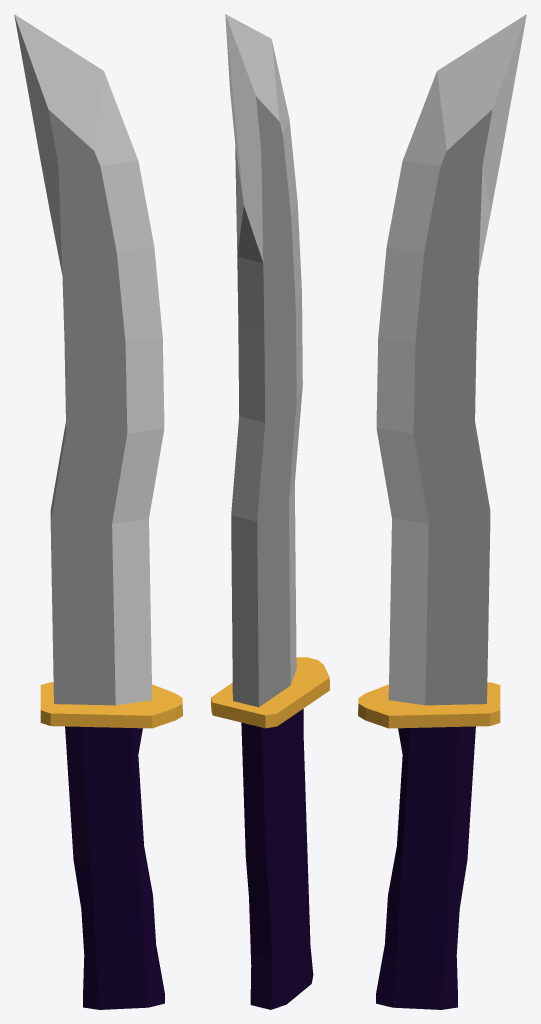
File: low_poly_dagger.glb
3 renders of one model, left to right at view 1: azimuth 90°, elevation 25°; view 2: azimuth 150°, elevation 25°; view 3: azimuth 270°, elevation 25°, orthographic. The views are drawn at different scales.
Parts seen in each view (by area): view 1: Cube.004; view 2: Cube.004; view 3: Cube.004.
Boxes of the visible parts, x1=… form: Cube.004: x1=14, y1=14, x2=182, y2=1009; Cube.004: x1=211, y1=14, x2=329, y2=1009; Cube.004: x1=358, y1=14, x2=526, y2=1009.
Bounding box in the file's own units: 0.0201 × 0.2937 × 0.0454.
